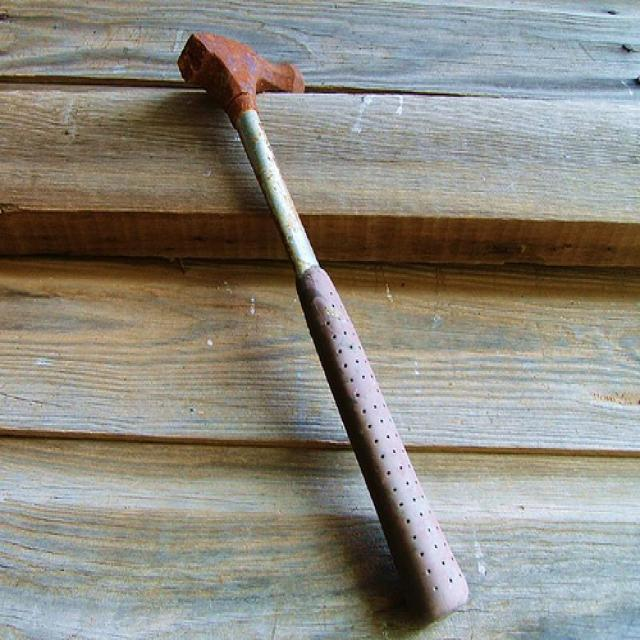hammer: (168, 13, 477, 632)
